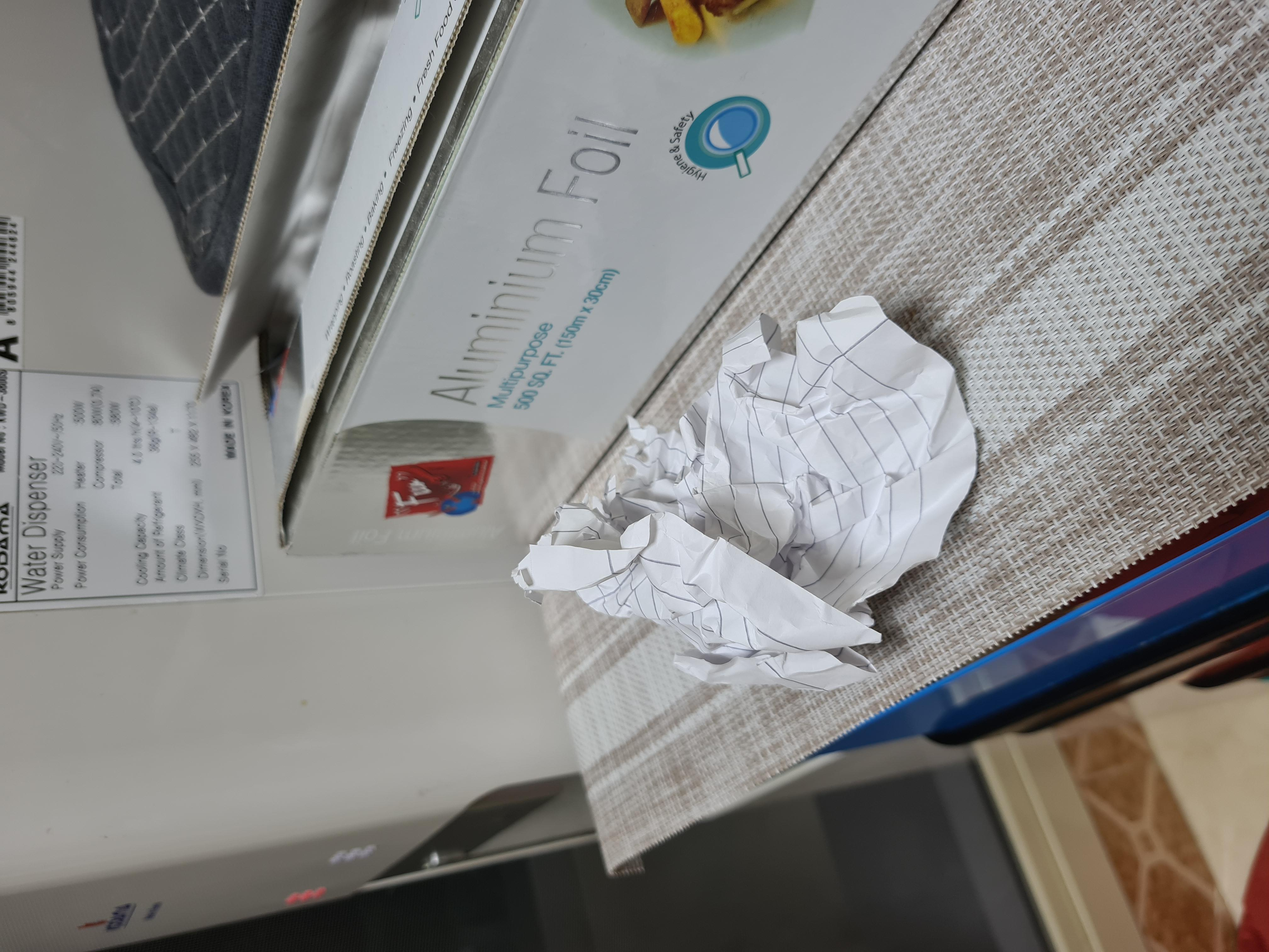paper: (367, 392, 861, 726)
